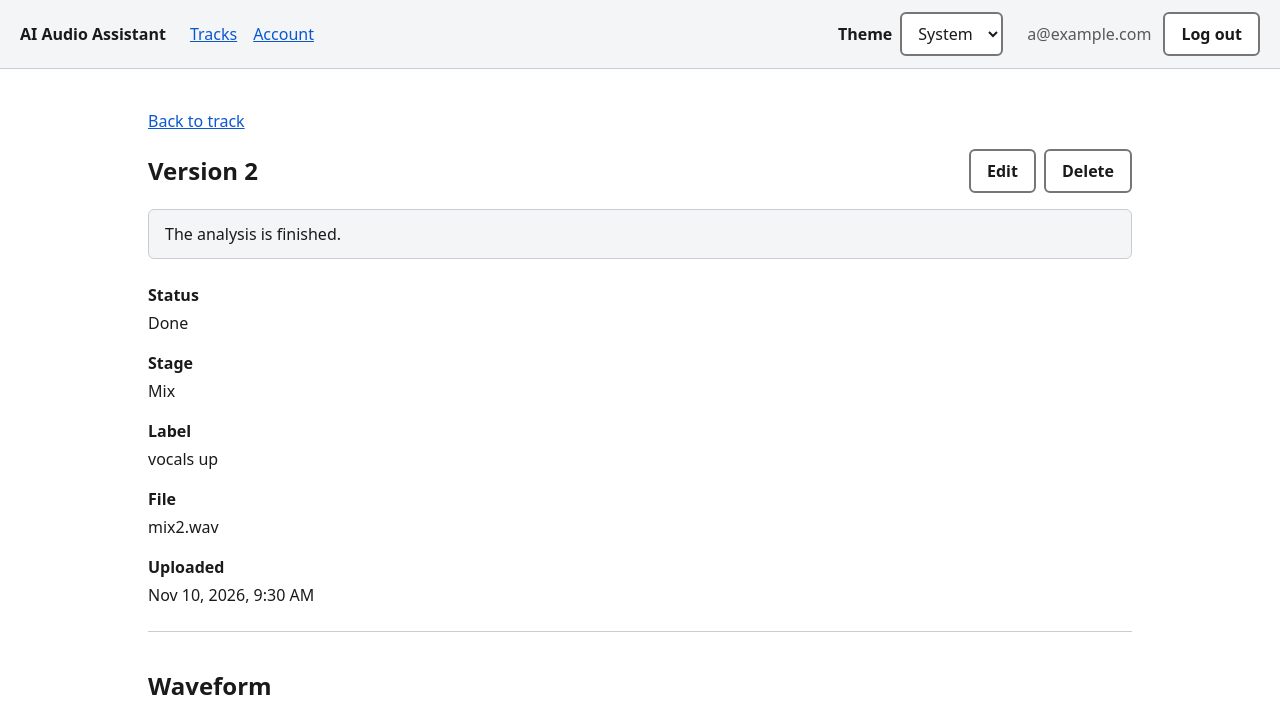
Test: deleting › asks first and goes back to the track after deleting
Expected: the heading "Version 2" is shown, [148,153,258,189]
Click the button "Delete" at (1088,171), box [1044,149,1132,193]
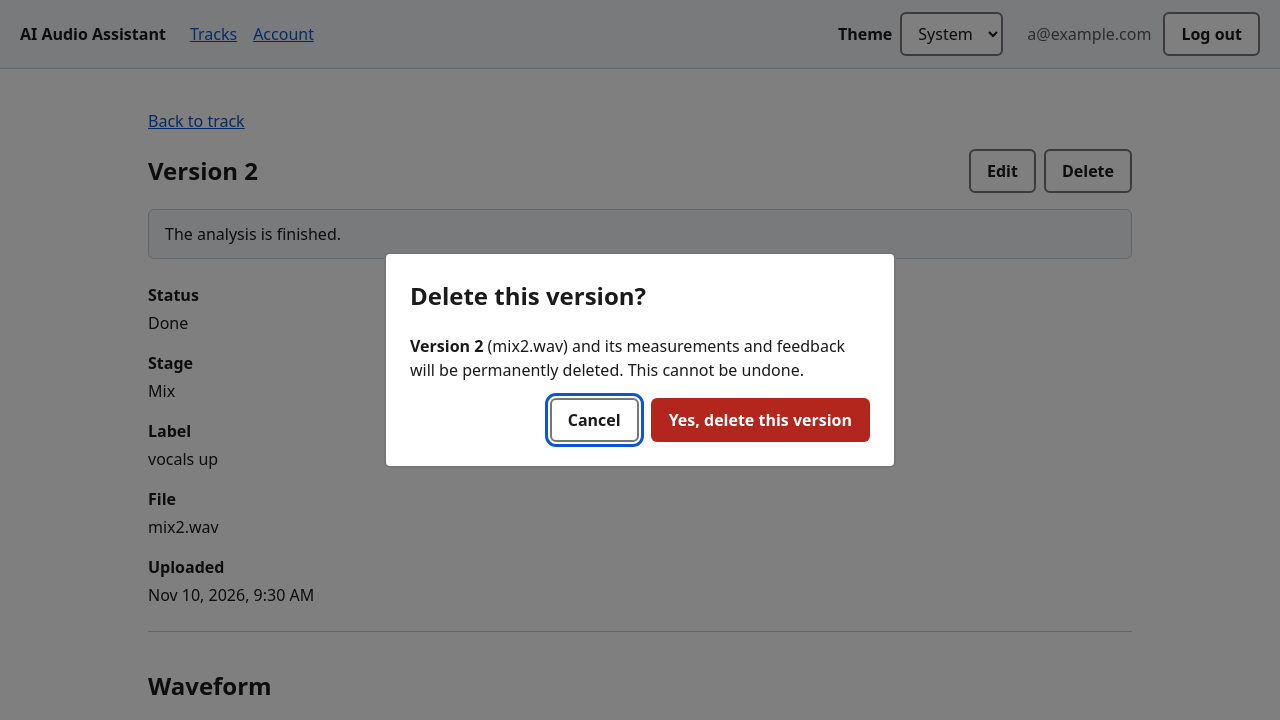
Now the dialog "Delete this version?" is shown, box [384,252,896,468]
Click the button "Yes, delete this version" at (760,420), box [651,398,870,442]
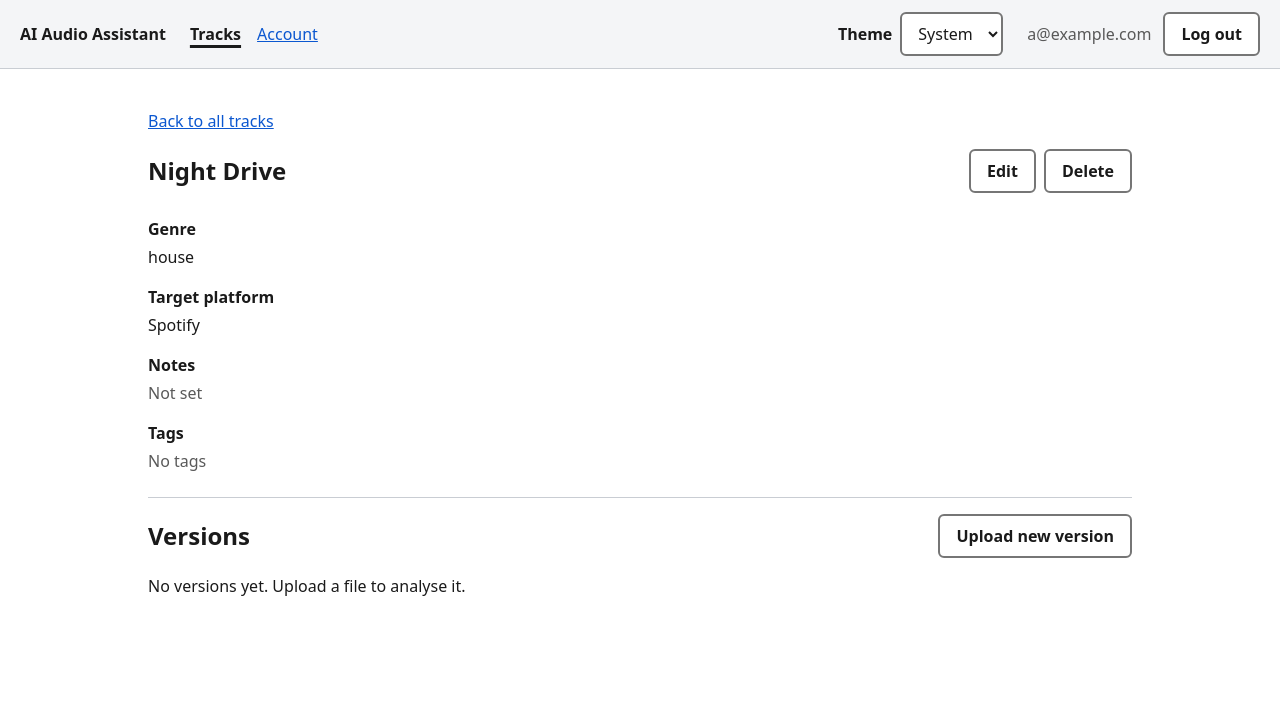
Now the heading "Night Drive" is shown, box [148,153,286,189]
